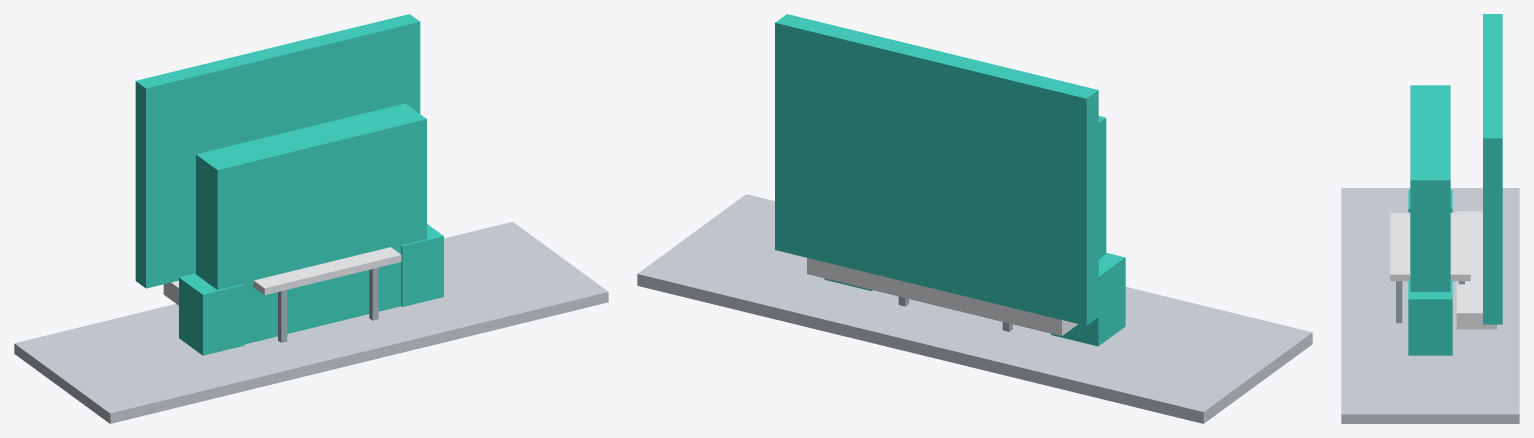
3 renders of one model, left to right at view 1: azimuth 30°, elevation 25°; view 2: azimuth 150°, elevation 25°; view 3: azimuth 270°, elevation 25°, orthographic. The views are drawn at different scales.
Parts seen in each view (by area): view 1: Exhibition Booth Concept; view 2: Exhibition Booth Concept; view 3: Exhibition Booth Concept.
Part boxes in pixels (x1,y1,x2,y2): Exhibition Booth Concept: (14,14,608,423); Exhibition Booth Concept: (637,14,1312,423); Exhibition Booth Concept: (1341,14,1519,423).
Bounding box in the file's own units: 6 × 2.9 × 2.
